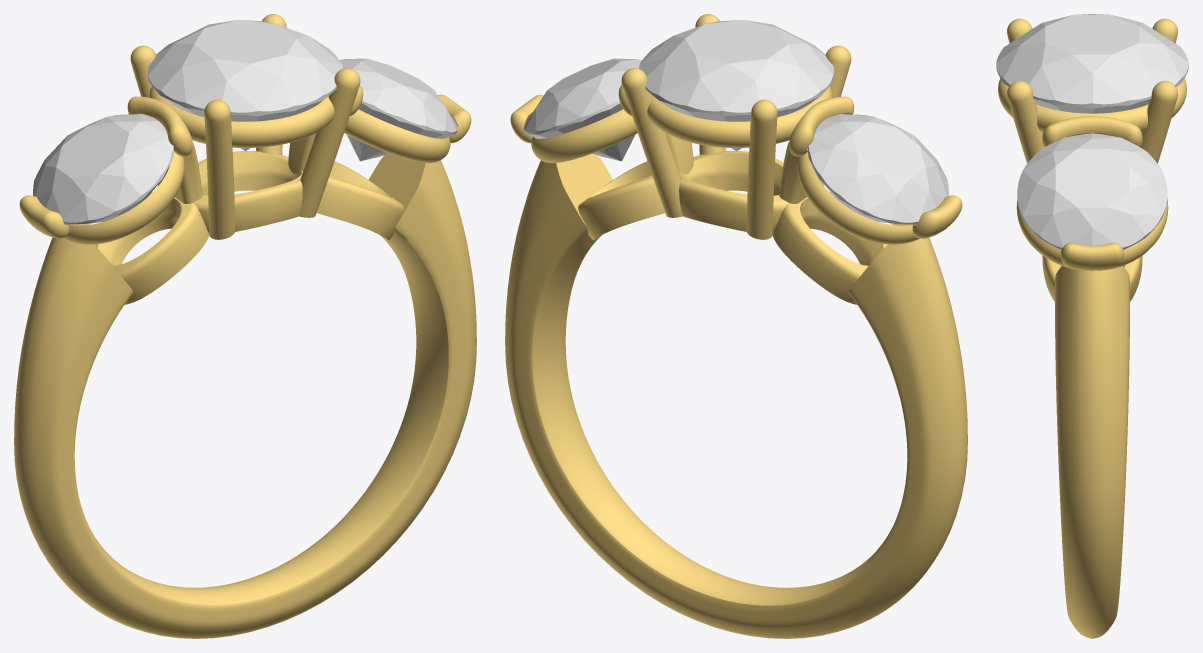
Rendered from PaulaYGfinalengversion.glb.
The picture shows the model from 3 angles, left to right: view 1: azimuth 30°, elevation 25°; view 2: azimuth 150°, elevation 25°; view 3: azimuth 270°, elevation 25°; orthographic projection.
Visible parts, largest first — view 1: v4 Paula YG for 3d model, V3 Paula dia for 3d model.002, V3 Paula dia for 3d model.001, V3 Paula dia for 3d model; view 2: v4 Paula YG for 3d model, V3 Paula dia for 3d model.002, V3 Paula dia for 3d model.001, V3 Paula dia for 3d model; view 3: v4 Paula YG for 3d model, V3 Paula dia for 3d model.002, V3 Paula dia for 3d model.
Part boxes in pixels (x1,y1,x2,y2): v4 Paula YG for 3d model: (14, 14, 476, 638); V3 Paula dia for 3d model.002: (147, 20, 342, 151); V3 Paula dia for 3d model.001: (33, 114, 173, 224); V3 Paula dia for 3d model: (340, 58, 457, 161); v4 Paula YG for 3d model: (505, 14, 967, 638); V3 Paula dia for 3d model.002: (639, 20, 833, 151); V3 Paula dia for 3d model.001: (807, 114, 948, 224); V3 Paula dia for 3d model: (524, 58, 641, 161); v4 Paula YG for 3d model: (998, 18, 1186, 638); V3 Paula dia for 3d model.002: (996, 14, 1188, 113); V3 Paula dia for 3d model: (1017, 133, 1167, 249).
Bounding box in the file's own units: 19.9 × 24.64 × 7.4.
